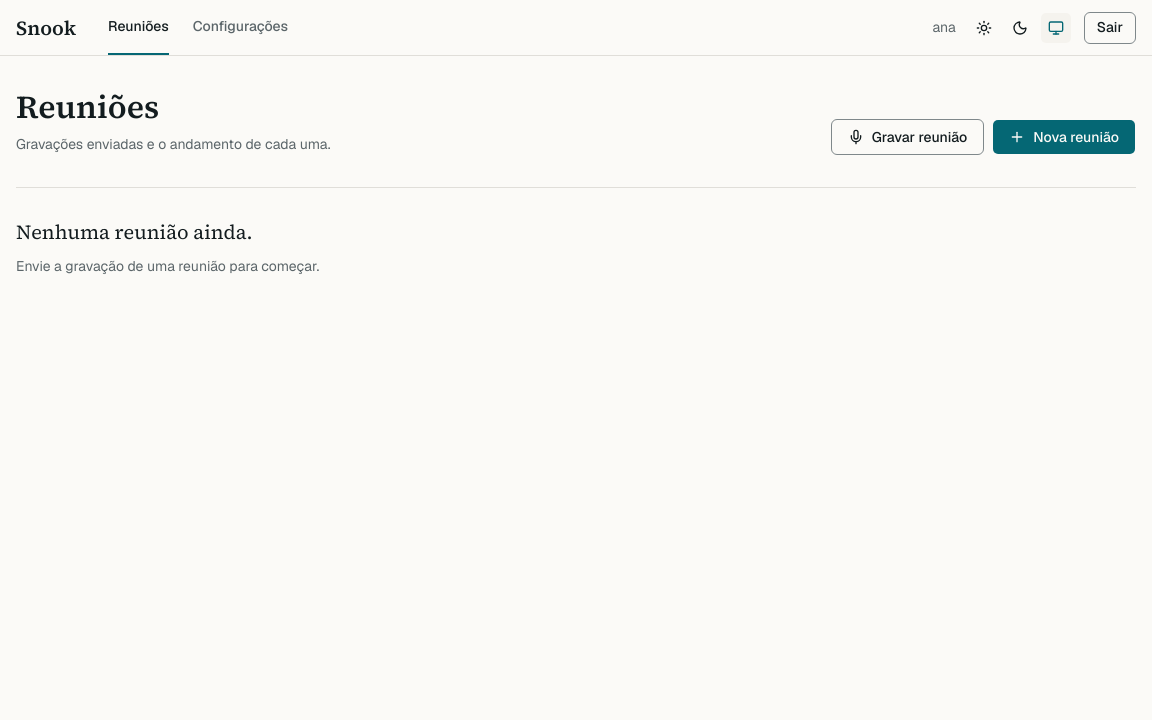
Test: depois do logout volta ao login (auth 26)
Click the button "Sair" at coordinates (1110, 28), box [1084,12,1136,44]
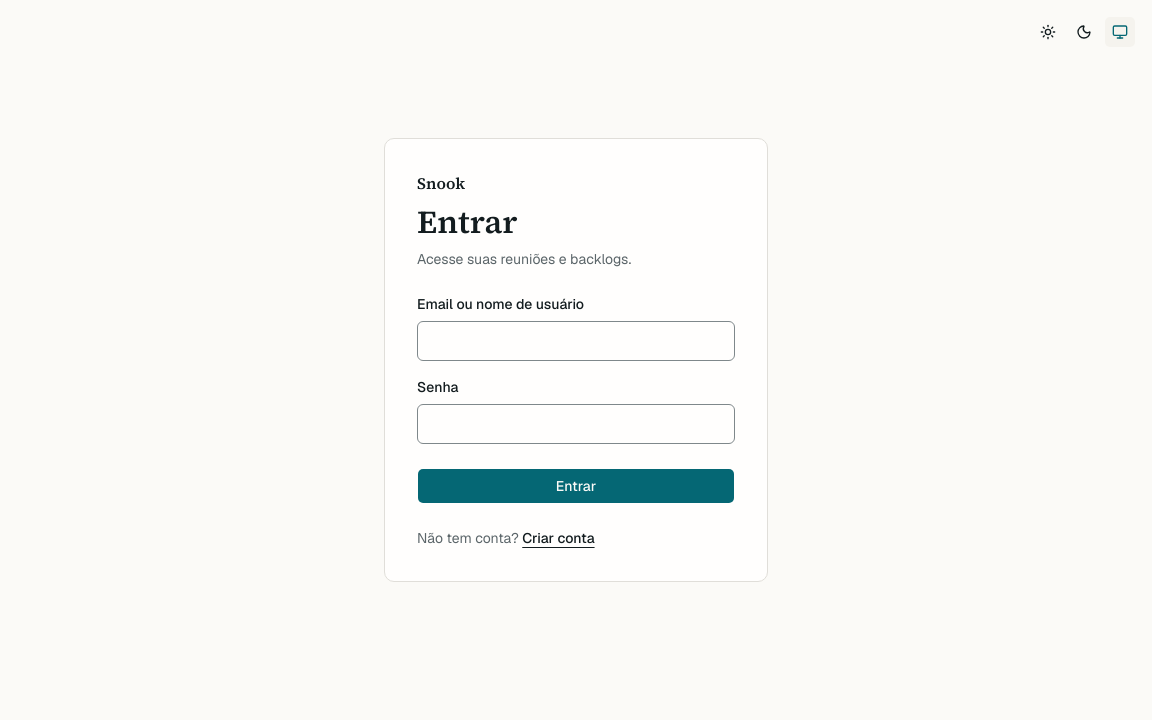
Result: the heading "Entrar" is shown at [417,200,518,244]
